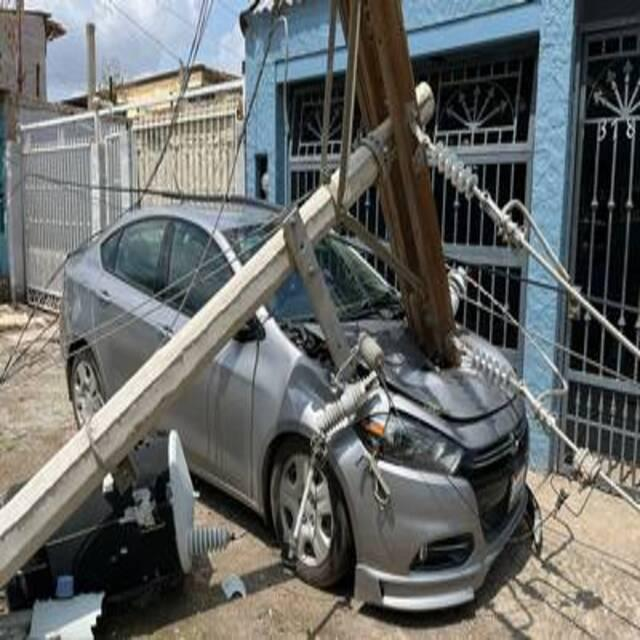Inclined Pole: (0, 0, 613, 640)
